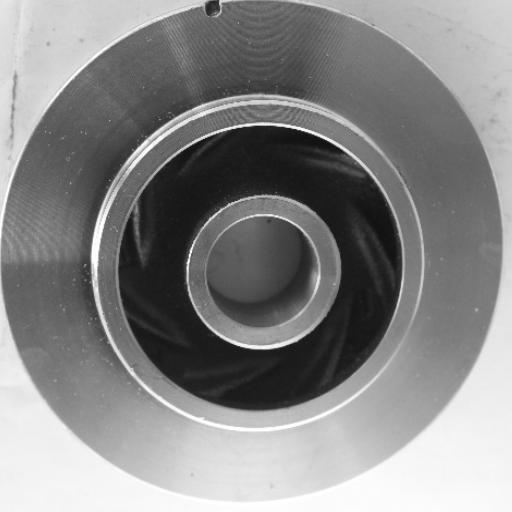pit: (189, 0, 234, 28)
unpolished_casting: (3, 0, 506, 503)
